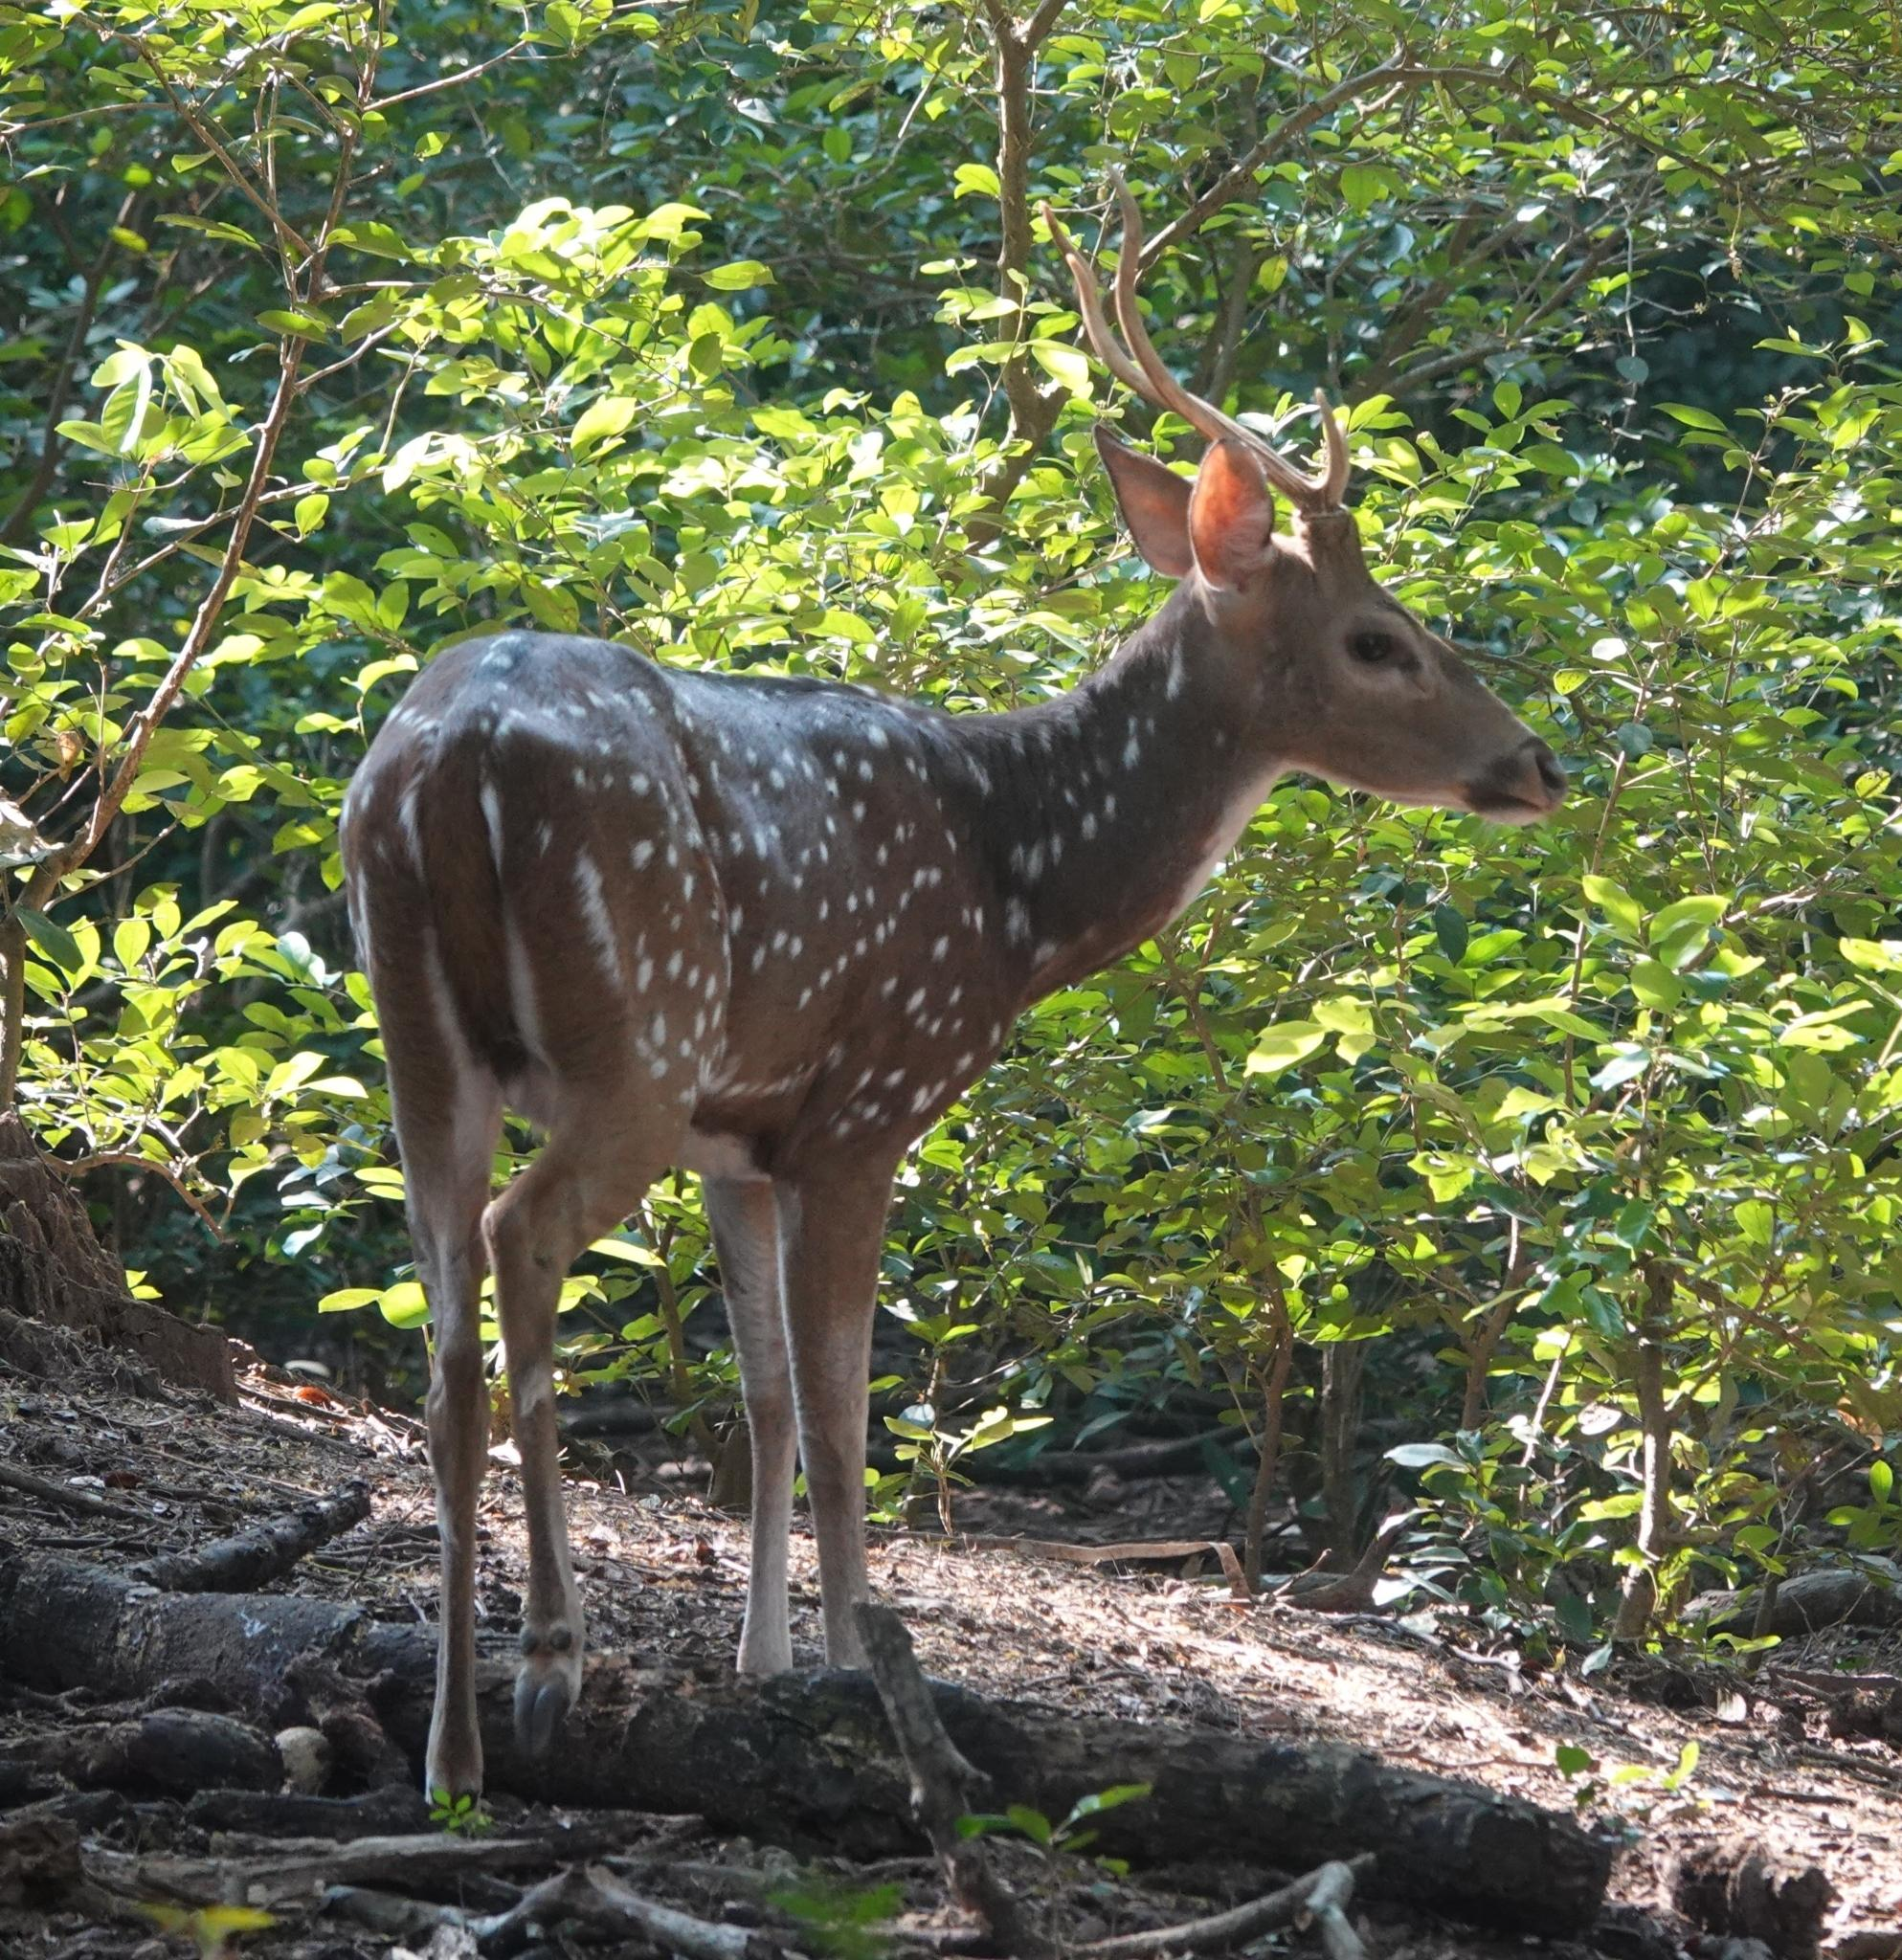Deer: (339, 177, 1564, 1792)
